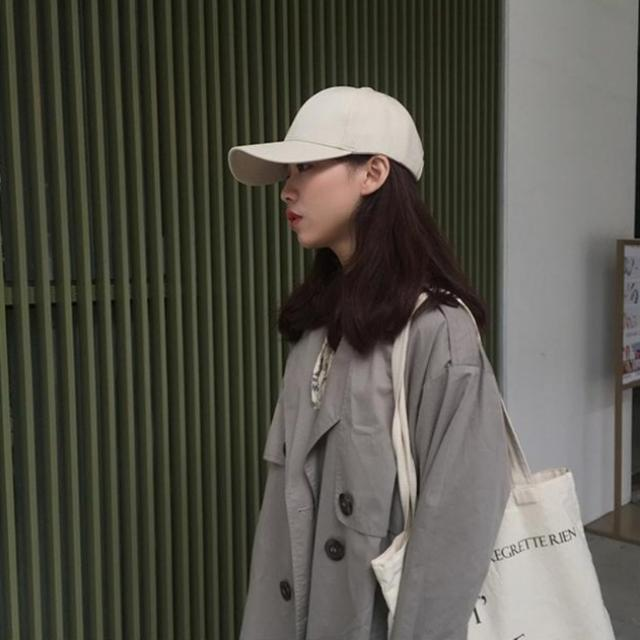Nonhelmet: (224, 82, 428, 258)
